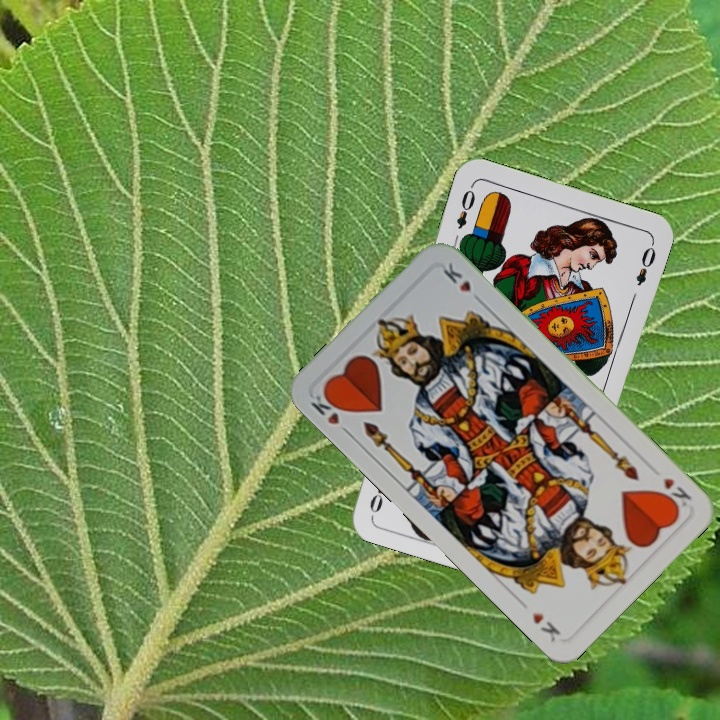EO: (452, 180, 478, 232)
HK: (307, 386, 348, 428), (655, 473, 694, 514)
